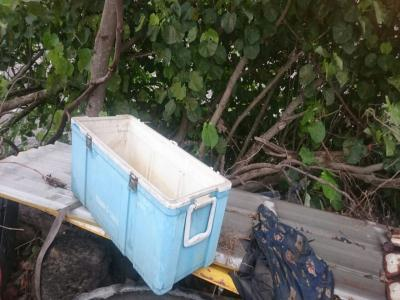box: (66, 110, 234, 297)
